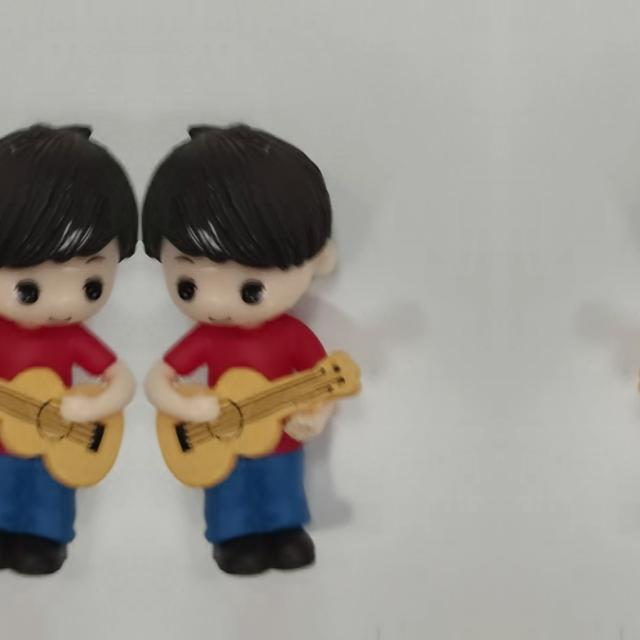man cloth: (163, 312, 354, 460), (0, 312, 116, 460)
man head: (140, 118, 344, 330), (0, 118, 140, 329)
trousers: (194, 449, 330, 573), (0, 449, 86, 573)
